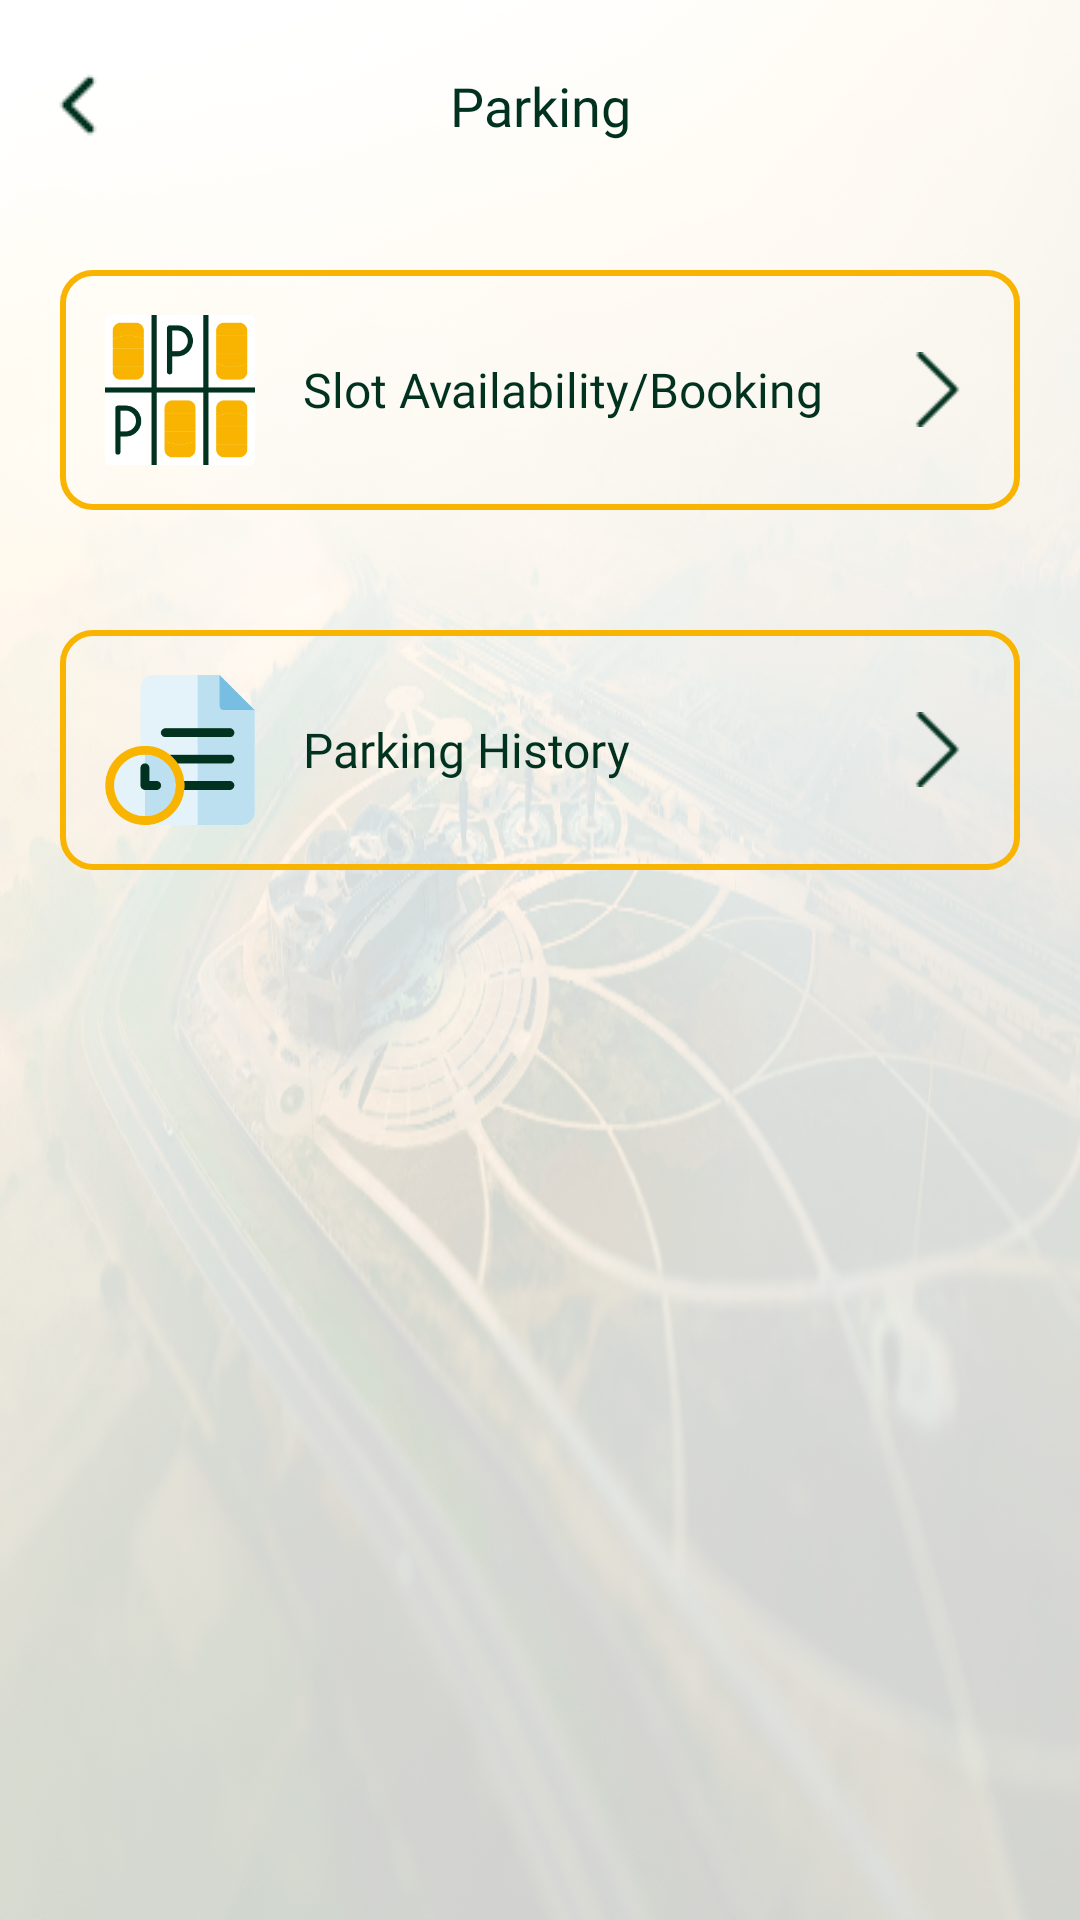

Icons on this 1080 x 1920 Android screen, each with the point to tap as (x,y):
arrow: (937,389), (937,749)
left: (78,105)
